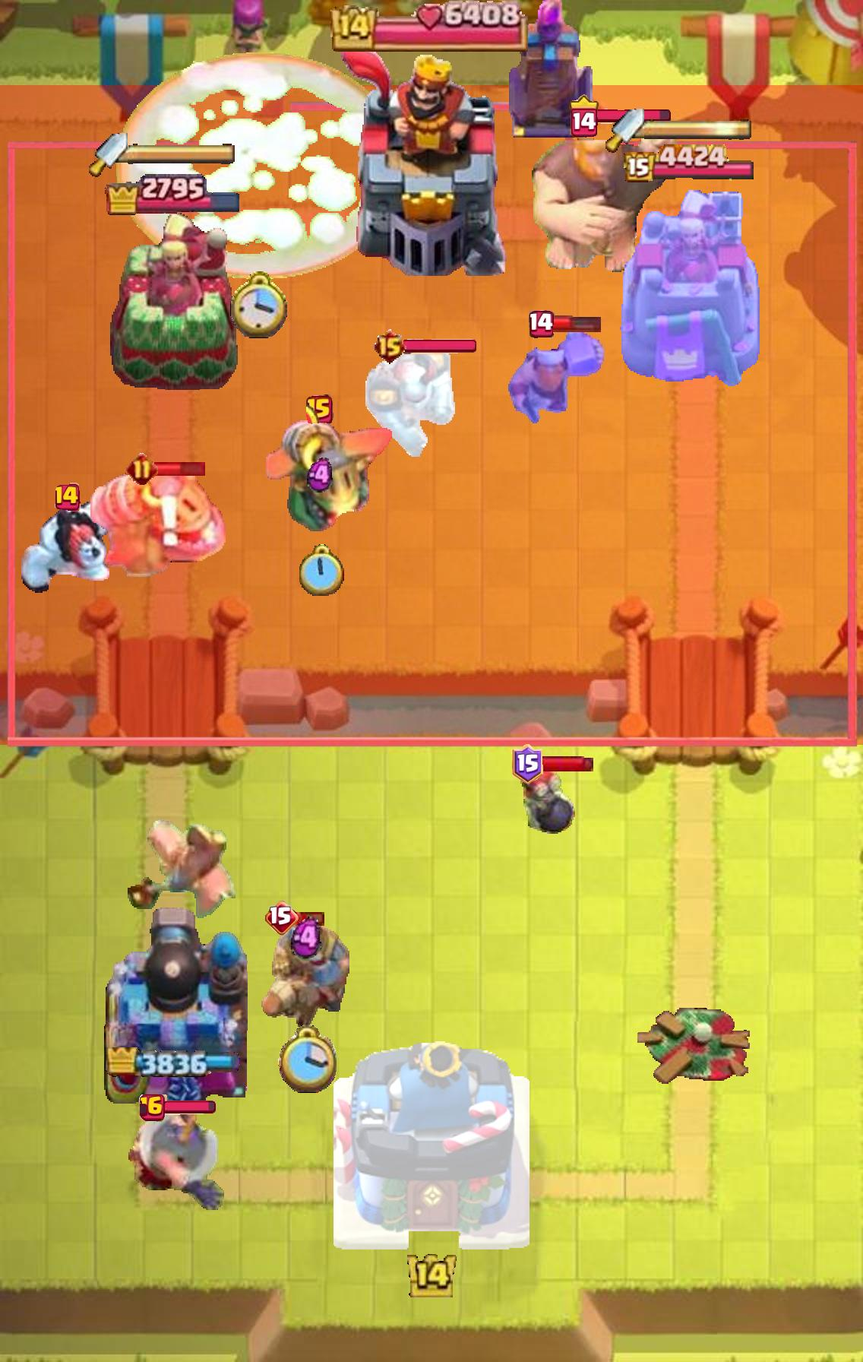bar: (596, 109, 671, 124), (403, 339, 476, 354), (539, 755, 594, 774), (154, 460, 207, 478), (551, 315, 601, 333), (164, 1101, 216, 1115), (295, 910, 325, 926)
bar-level: (511, 744, 543, 785), (372, 328, 407, 365), (569, 94, 598, 137), (266, 901, 300, 936), (126, 453, 158, 485), (306, 394, 334, 424), (139, 1094, 168, 1122), (55, 483, 81, 512), (529, 310, 555, 338)
